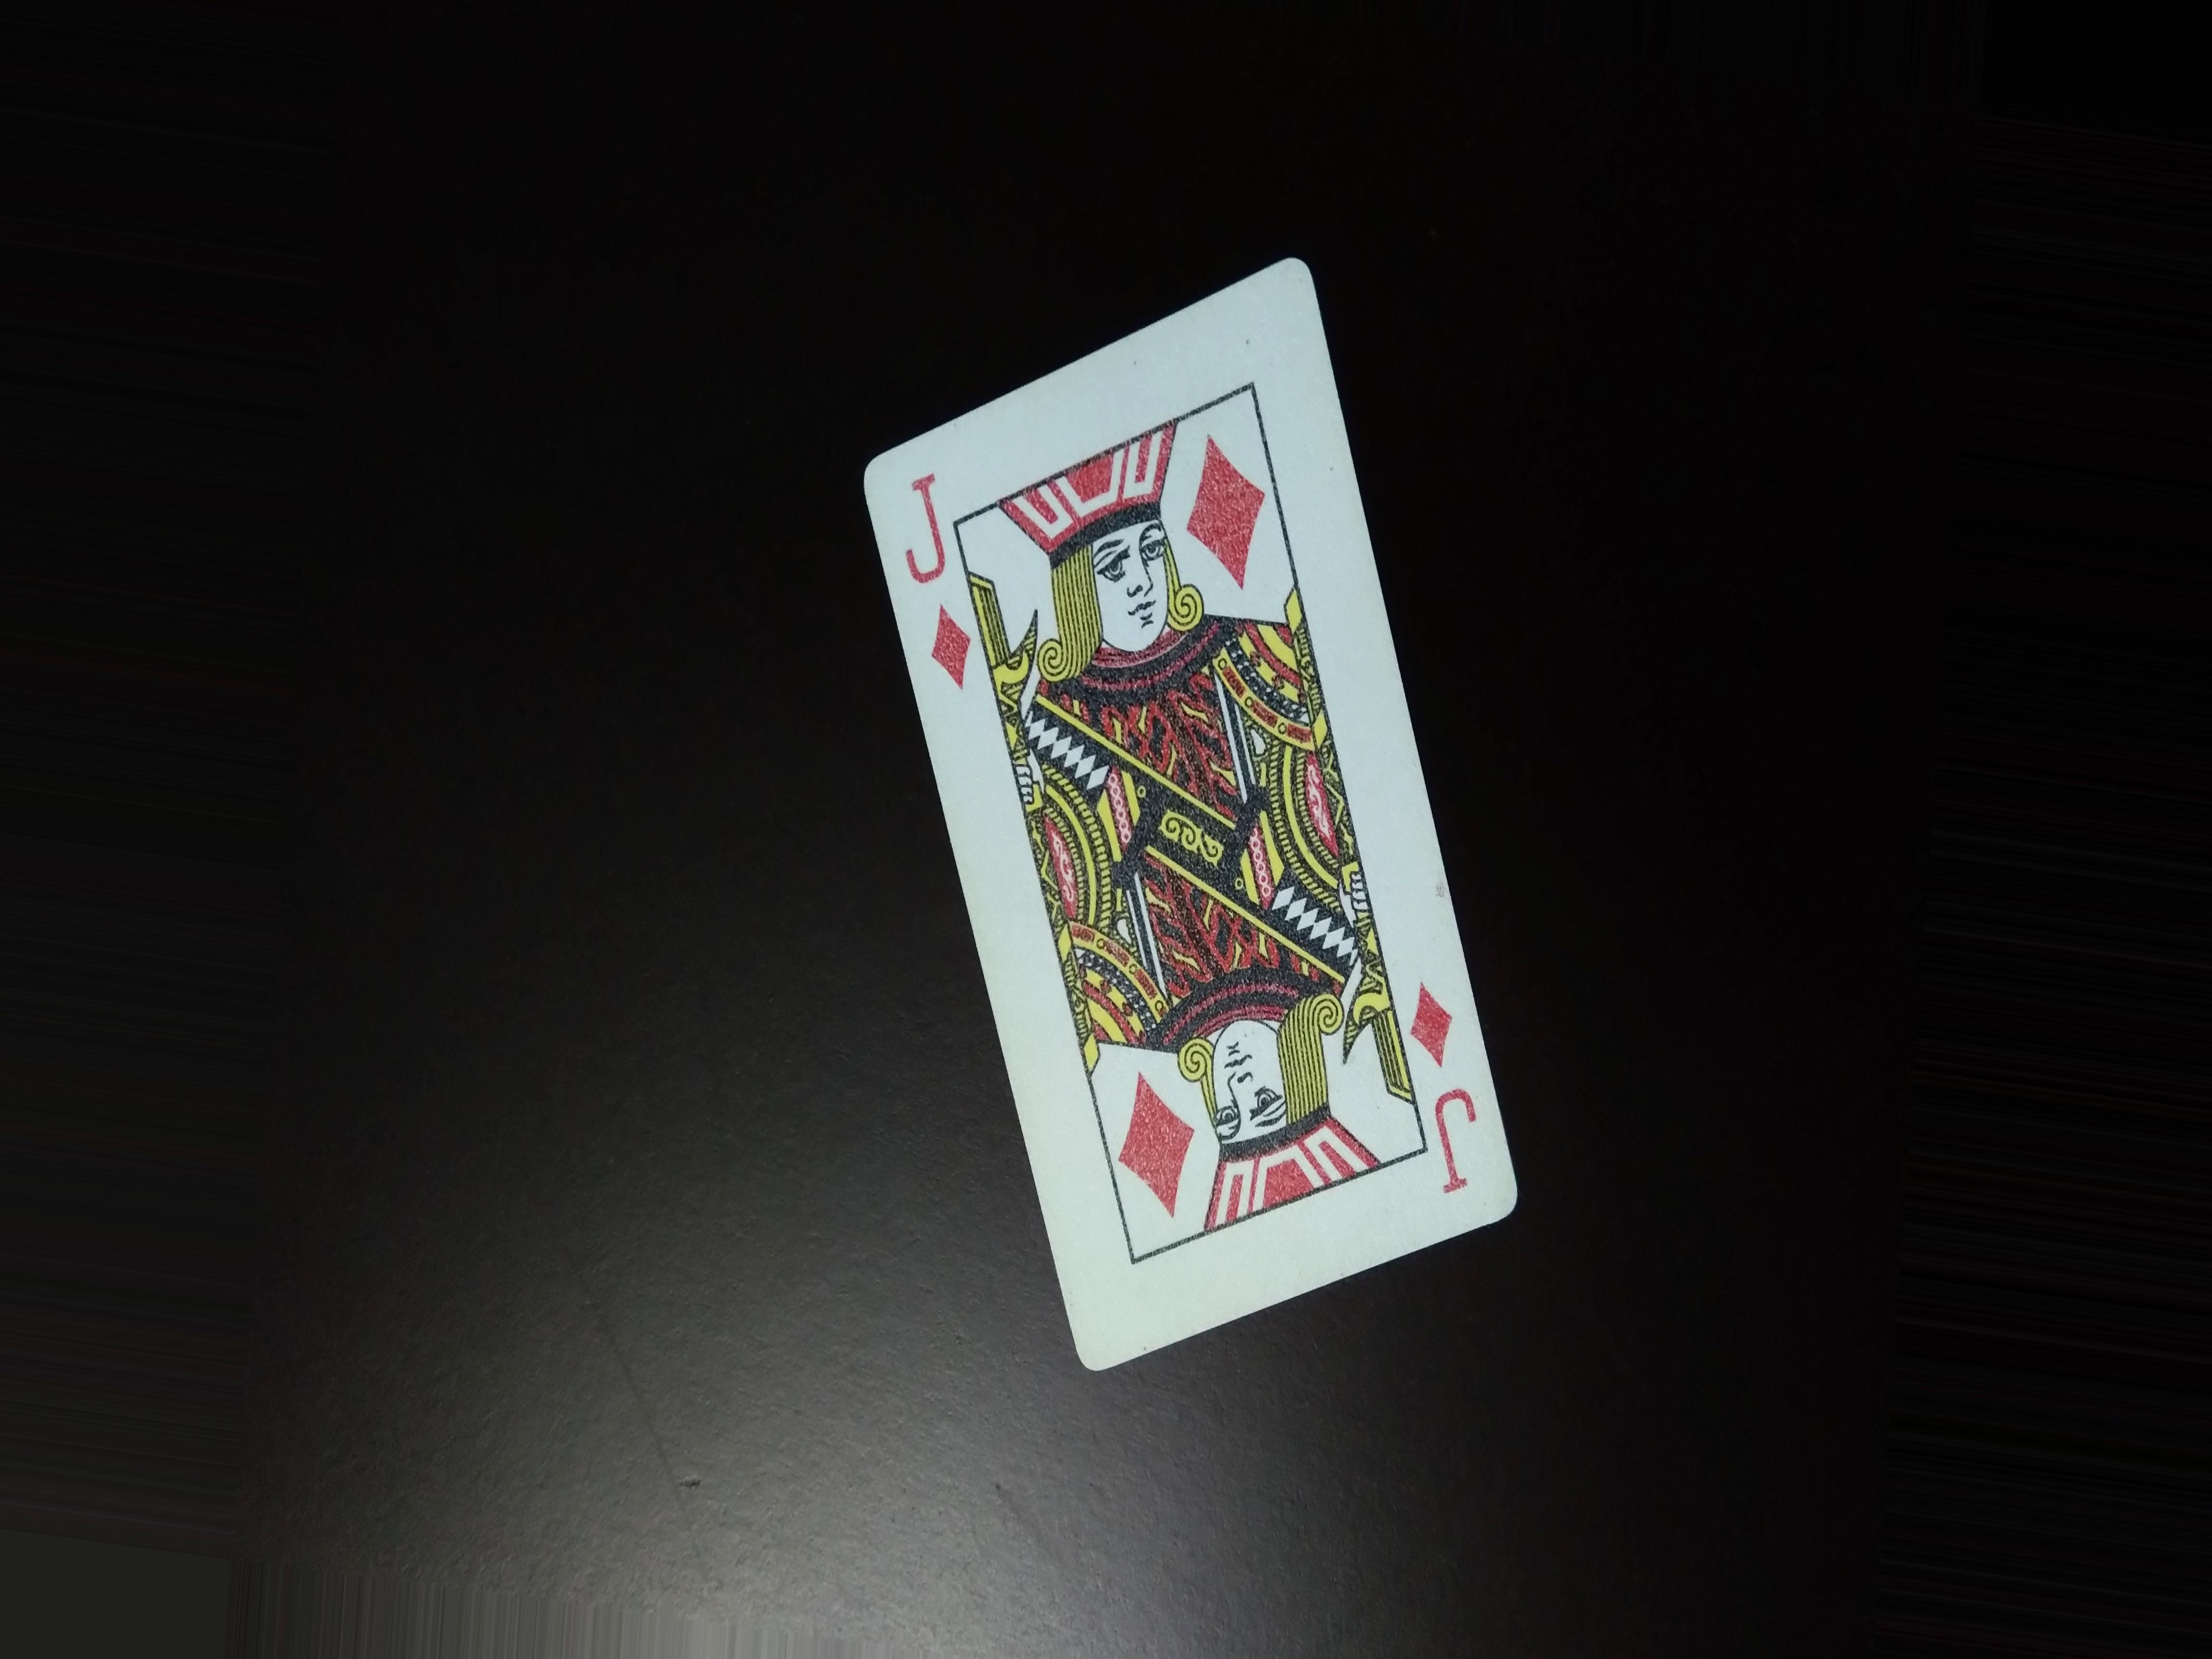JD: (1404, 969, 1475, 1201)
